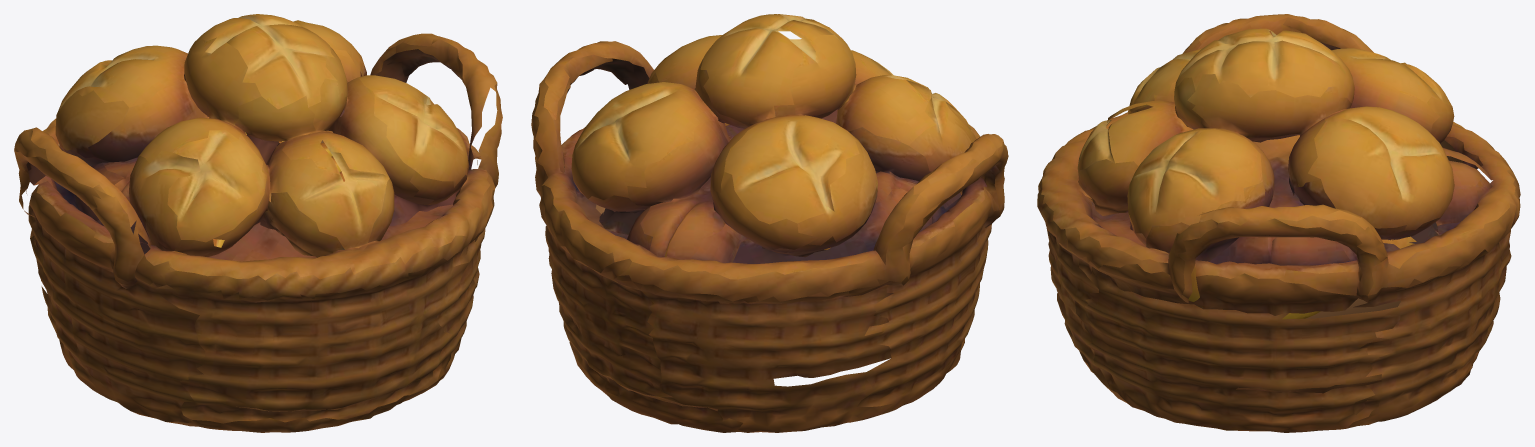
Rendered from bread-basket.glb.
3 renders of one model, left to right at view 1: azimuth 30°, elevation 25°; view 2: azimuth 150°, elevation 25°; view 3: azimuth 270°, elevation 25°, orthographic. The views are drawn at different scales.
Parts seen in each view (by area): view 1: basket.full, basket.empty; view 2: basket.full, basket.empty; view 3: basket.full, basket.empty, basket.empty.inside.
Part boxes in pixels (box(x1,y1,x2,y2)): basket.full: box(14, 14, 502, 300); basket.empty: box(14, 33, 500, 432); basket.full: box(531, 14, 1008, 301); basket.empty: box(533, 41, 1007, 432); basket.full: box(1037, 28, 1520, 298); basket.empty: box(1046, 14, 1514, 432); basket.empty.inside: box(1306, 140, 1463, 318).
Bounding box in the file's own units: 1.29 × 0.95 × 1.29.
4 materials, 2 textured.
